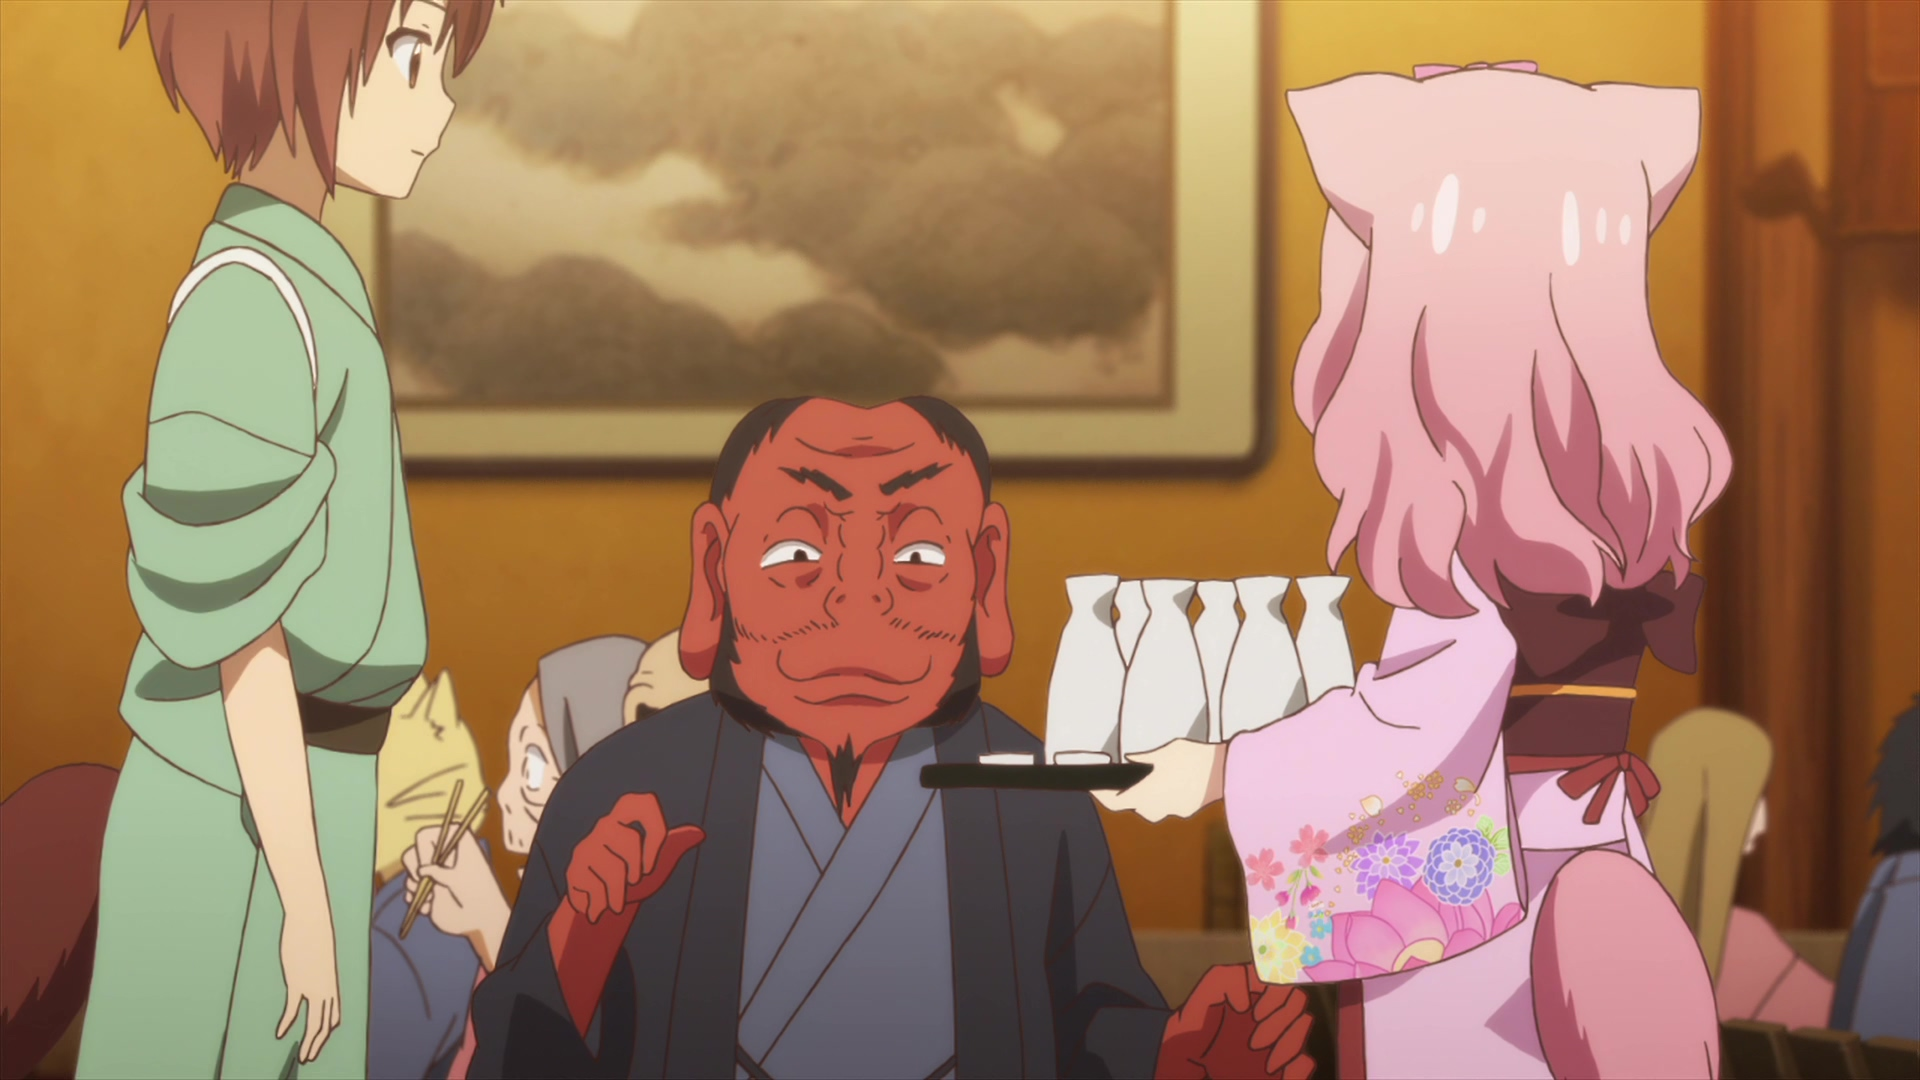其他: (473, 398, 1313, 1080), (406, 640, 654, 967), (1634, 705, 1832, 1031), (367, 673, 491, 1080), (1830, 695, 1920, 1039)
枣: (1, 1, 501, 1080)
莲: (924, 61, 1729, 1080)
